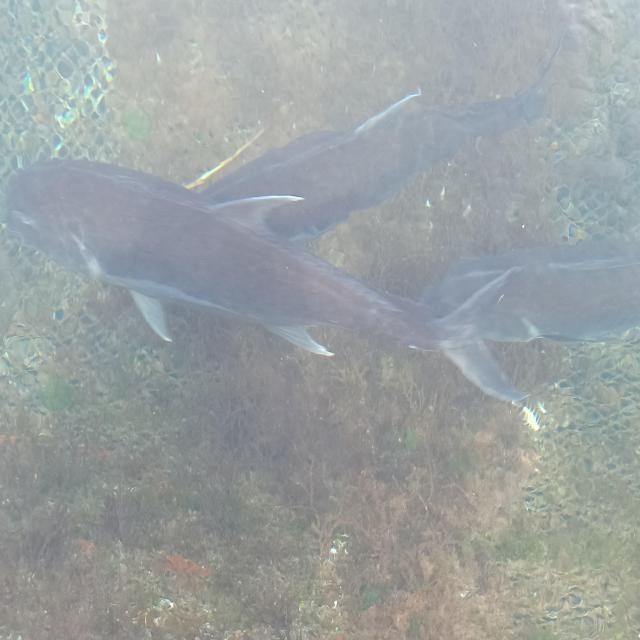ikan: (3, 31, 637, 408), (182, 30, 566, 247)
